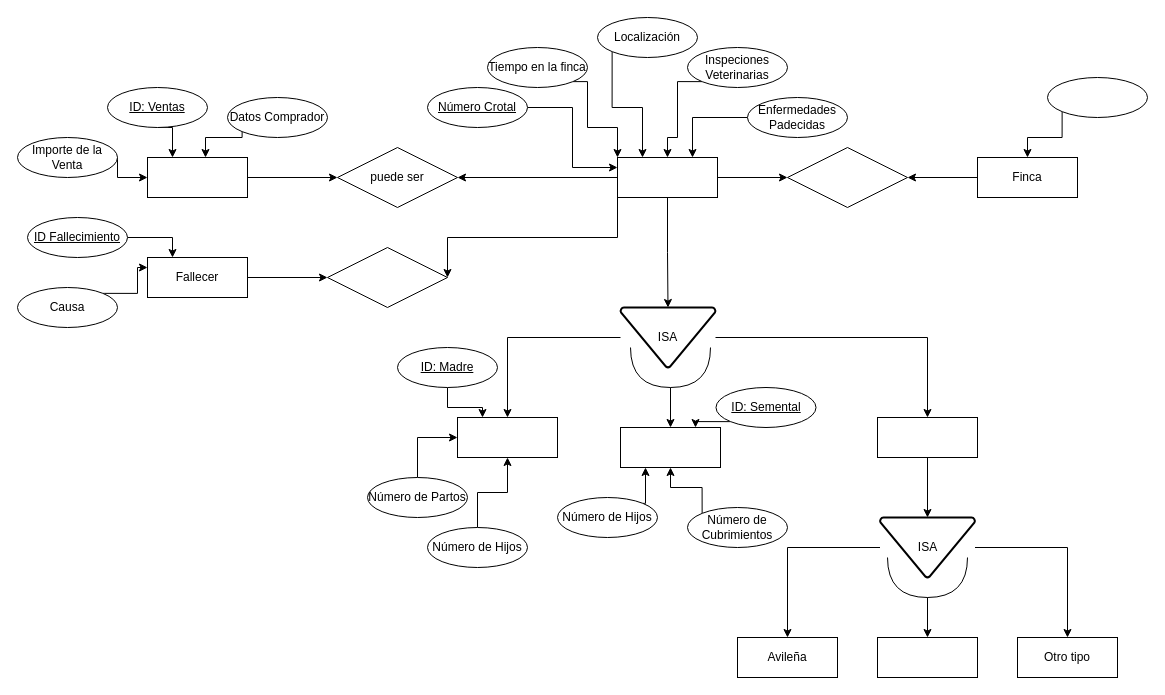
Some shapes in this 1165 by 695 pixel diagram are drawn without their labels. The shapes that lost their labels are listed below. From the top down, each one's centre as x and y in pixels, then its label:
At pixel 1097 97: "Existencia Gando Raza".
At pixel 197 177: "Venta".
At pixel 667 177: "Ganado".
At pixel 847 177: "situado en".
At pixel 387 277: "puede".
At pixel 507 437: "Madre".
At pixel 670 447: "Semental".
At pixel 927 437: "Raza".
At pixel 927 657: "Limusín".
